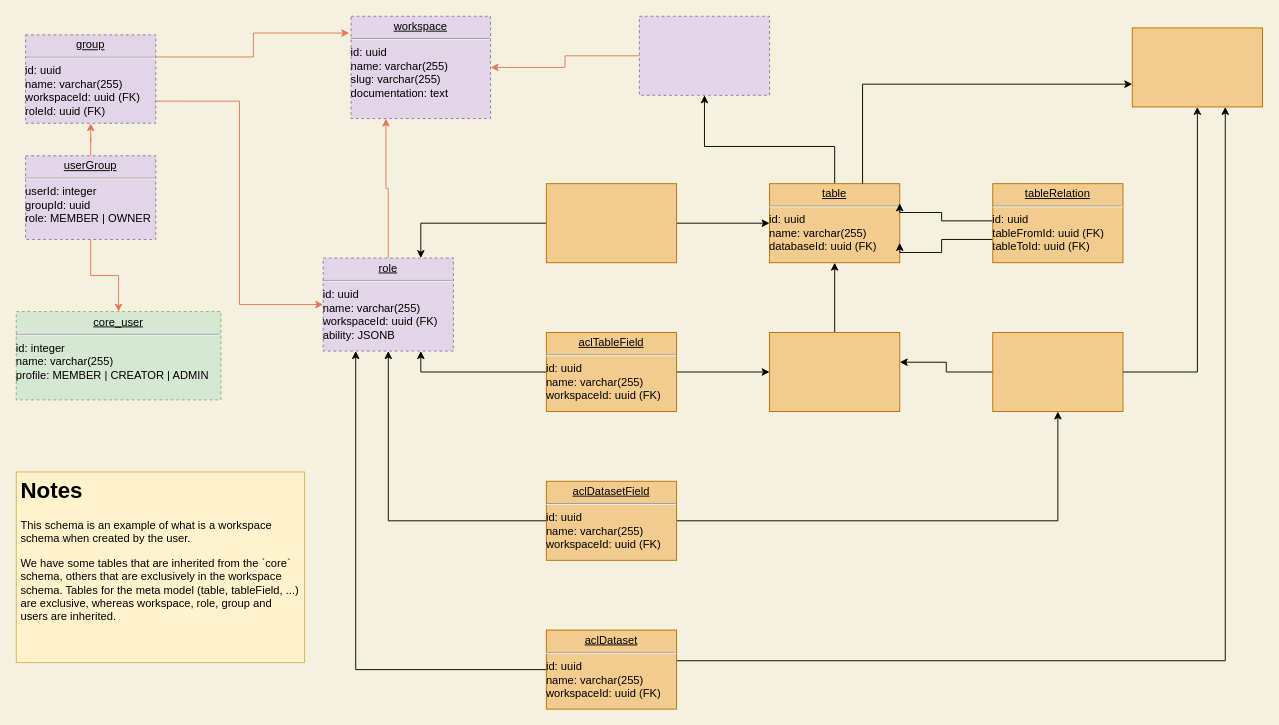
Some shapes in this 1279 by 725 pixel diagram are drawn without their labels. The centre of each missing label's shape, as x and y in pixels:
"aclTable id: uuid name: varchar(255) workspaceId: uuid (FK)" goes at point 611,223.
"dataset id: uuid name: varchar(255) tableId: uuid (FK)" goes at point 1196,67.
"datasetField id: uuid datasetId: uuid (FK) tableFieldId: uuid (FK)" goes at point 1057,372.
"datasource id: uuid name: varchar(255) workspaceId: uuid (FK)" goes at point 704,55.
"tableField id: uuid name: varchar(255) tableId: uuid (FK)" goes at point 834,372.
